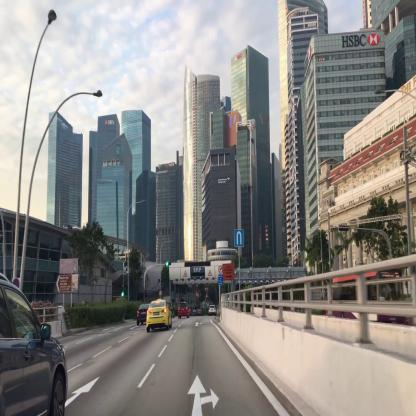green_traffic_light: (166, 262, 171, 265), (122, 287, 123, 297)
